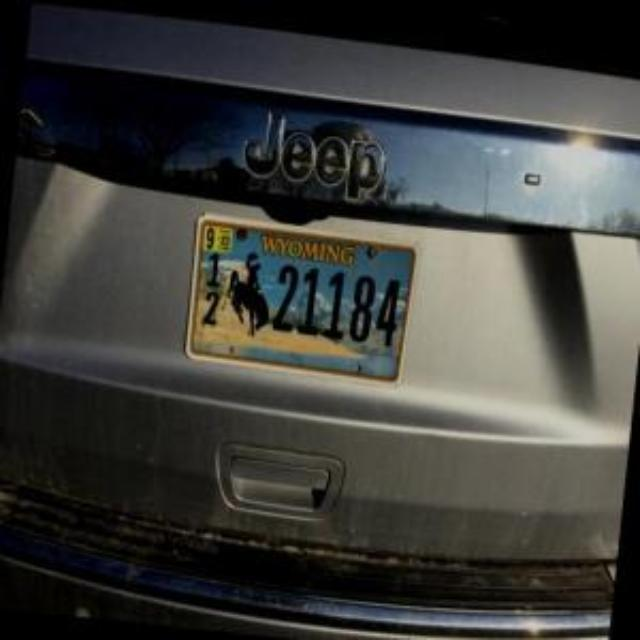License Plate: (183, 213, 422, 389)
